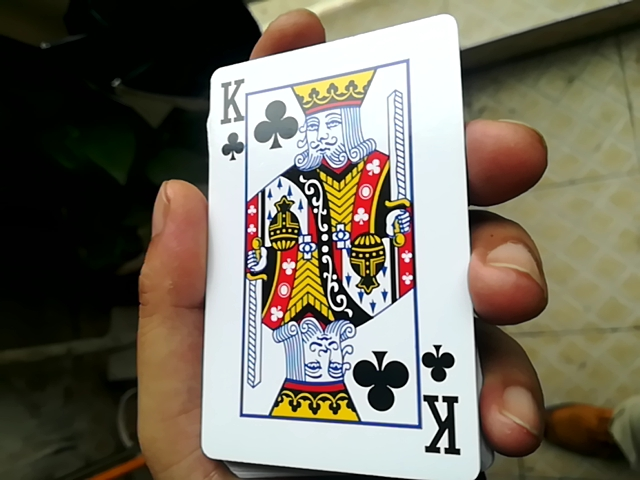mh k: (203, 10, 474, 472)
